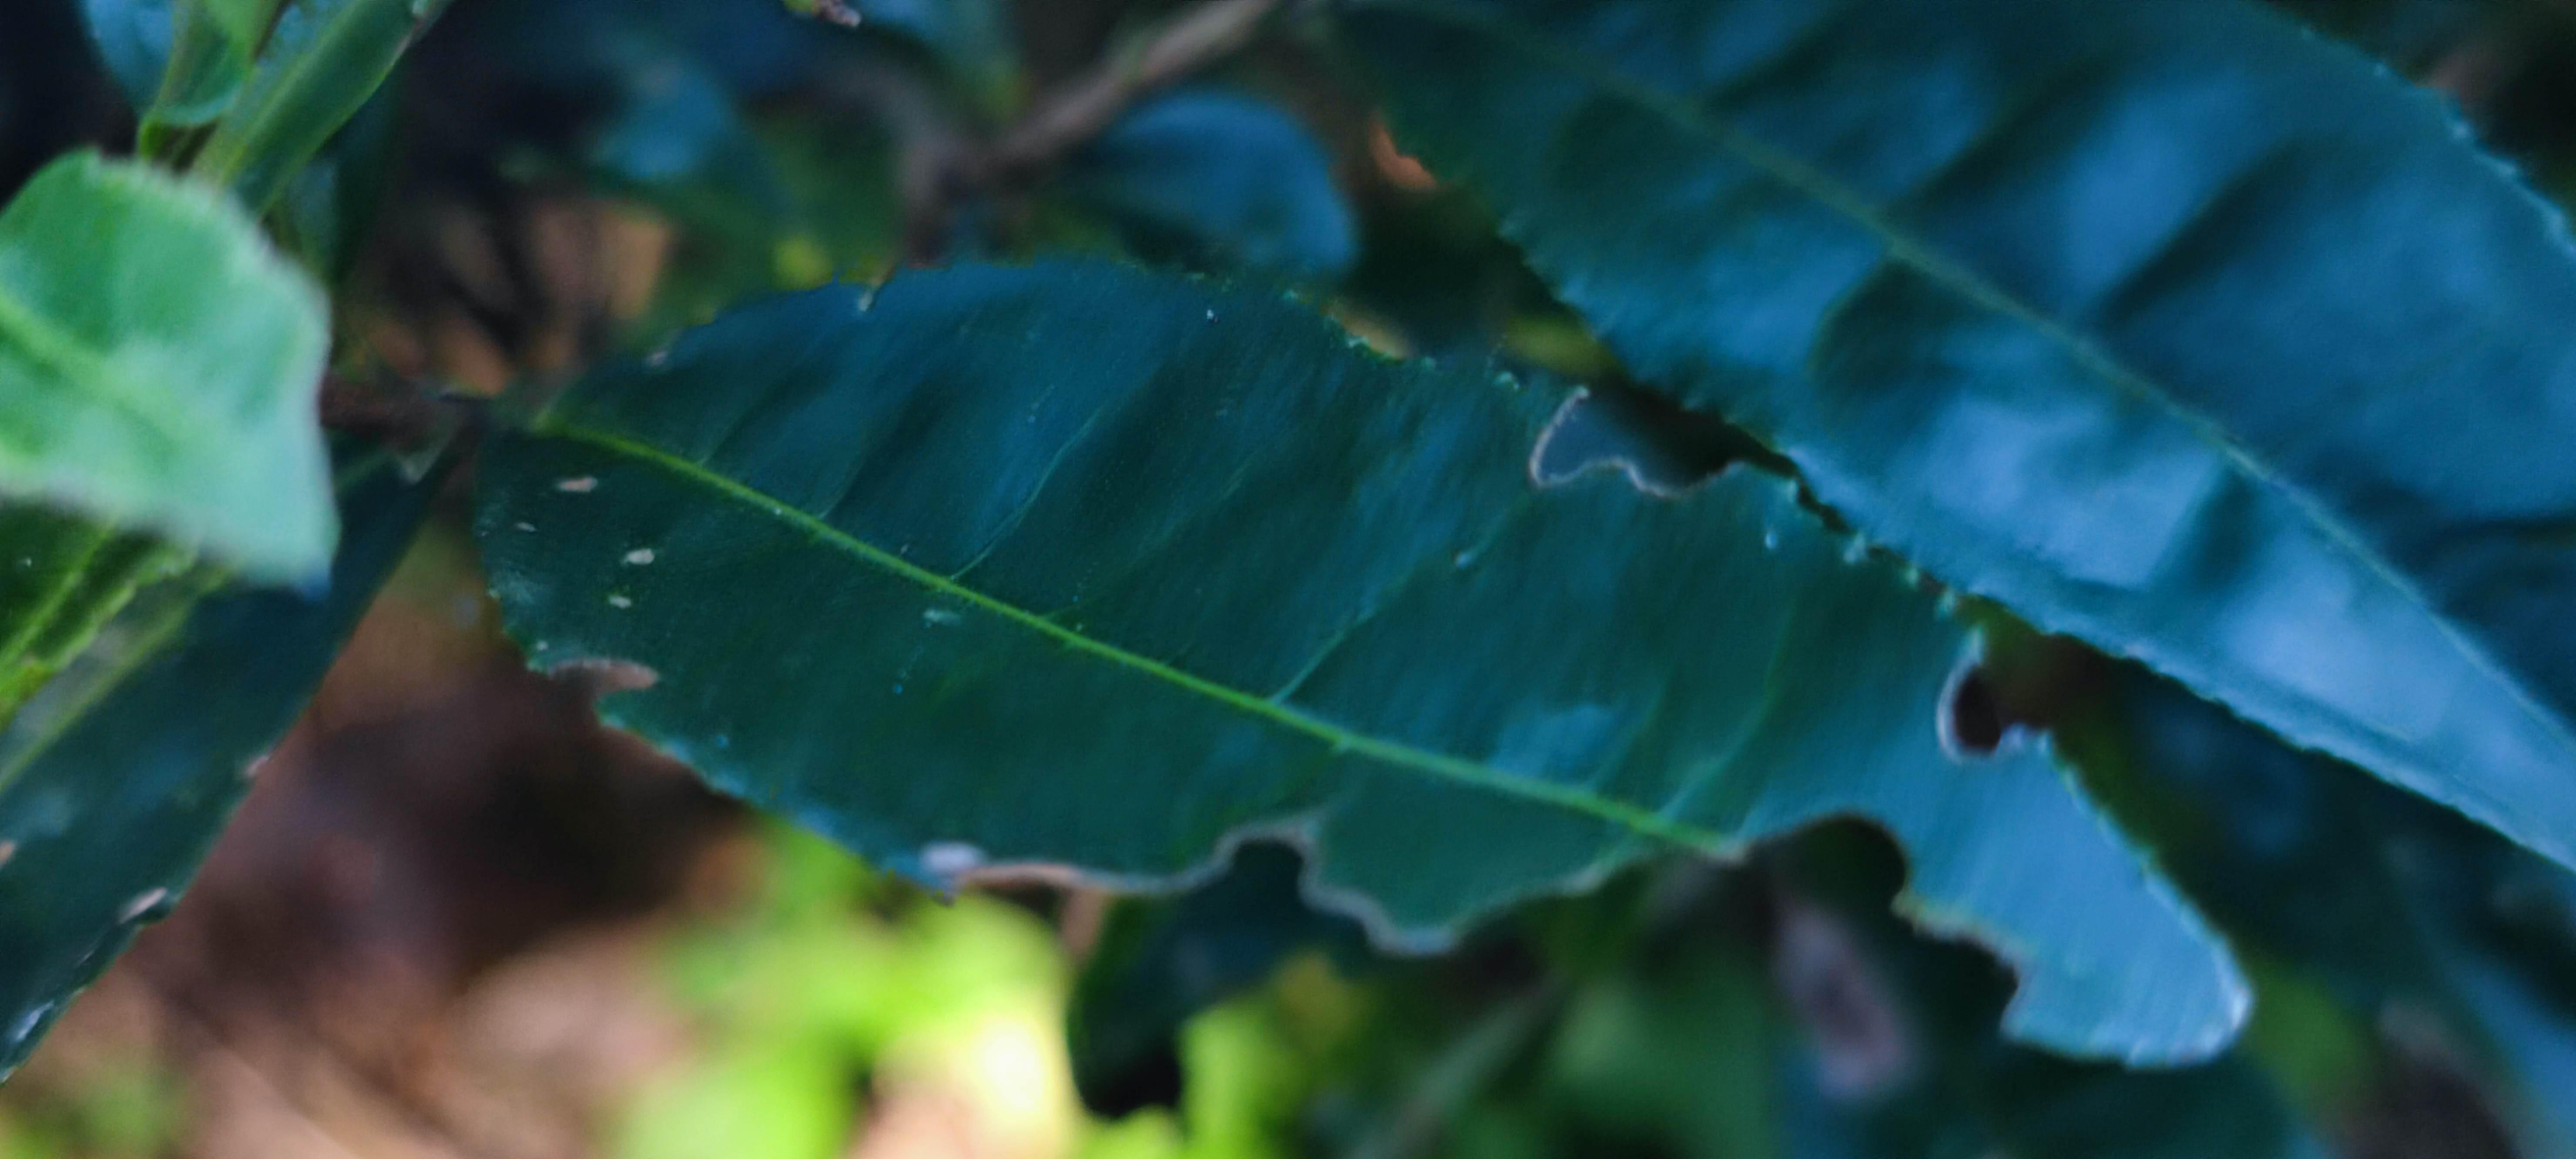chihuo_high: (476, 241, 2259, 1072)
healthy: (1306, 5, 2569, 864), (2, 143, 347, 599)
